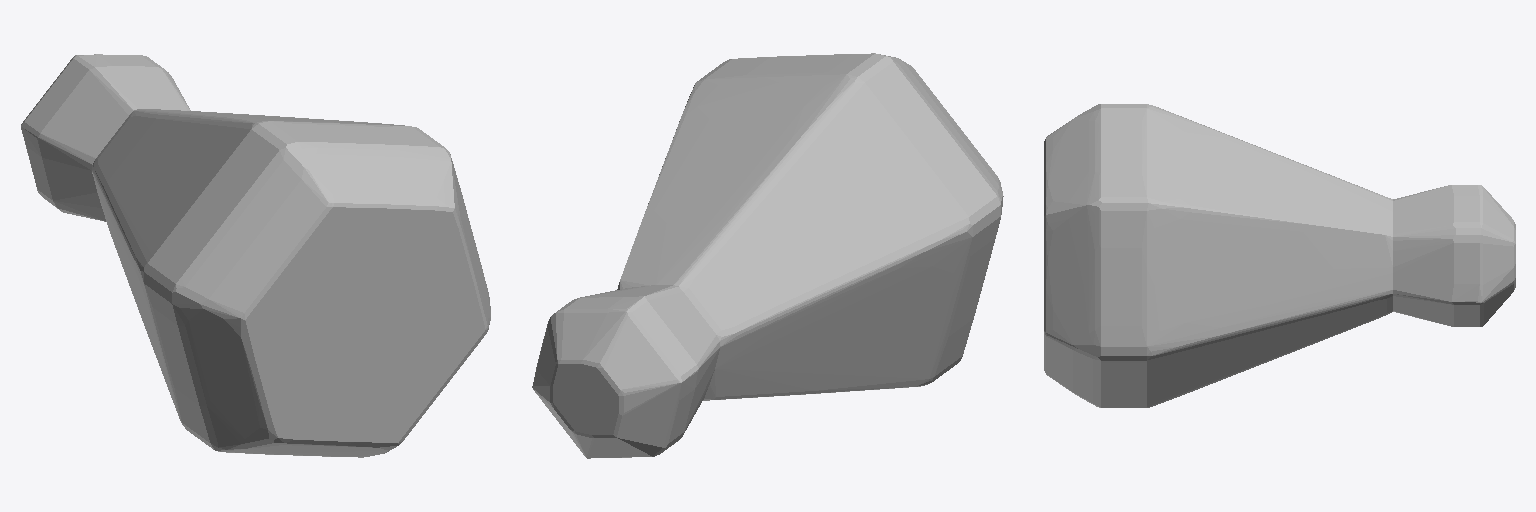
The robot description file, URDF, robot "root":
<?xml version="1.0"?>
<robot name="root">
  <link name="base_link">
    <visual>
      <origin xyz="0 0 0" rpy="0 0 0" />
      <geometry>
        <mesh filename="../meshes/unidex_core_bottle-2db802ef3de3d00618a36258eabc2b9c_008.obj" scale="1.0000E+00 1.0000E+00 1.0000E+00" />
      </geometry>
      <material name="">
        <color rgba="7.50E-01 7.50E-01 7.50E-01 1" />
      </material>
    </visual>
    <collision>
      <origin xyz="0 0 0" rpy="0 0 0" />
      <geometry>
        <mesh filename="../meshes/unidex_core_bottle-2db802ef3de3d00618a36258eabc2b9c_008.obj" scale="1.0000E+00 1.0000E+00 1.0000E+00" />
      </geometry>
    </collision>
  </link>
</robot>

--- Facts derived from the render (not from the file) ---
Views: 3 orthographic renders of the robot side by side, from view 1: azimuth 30°, elevation 25°; view 2: azimuth 150°, elevation 25°; view 3: azimuth 270°, elevation 25°.
Robot: root — 1 links, 0 joints (none); root link base_link; default pose: all joints at 0.
Visible links, largest first — view 1: base_link; view 2: base_link; view 3: base_link.
Boxes of the visible links, x1=… form: base_link: x1=21, y1=54, x2=490, y2=457; base_link: x1=532, y1=53, x2=1003, y2=458; base_link: x1=1044, y1=104, x2=1515, y2=407.
Size in the robot's own frame: 0.0886 by 0.1406 by 0.0886 metres.
Meshes: 1 distinct files referenced, 1 mesh visuals loaded (1 OBJ).
